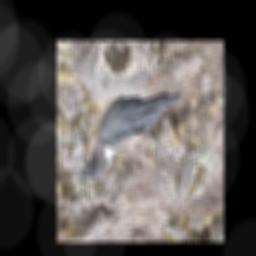Crow: (80, 89, 184, 180)
